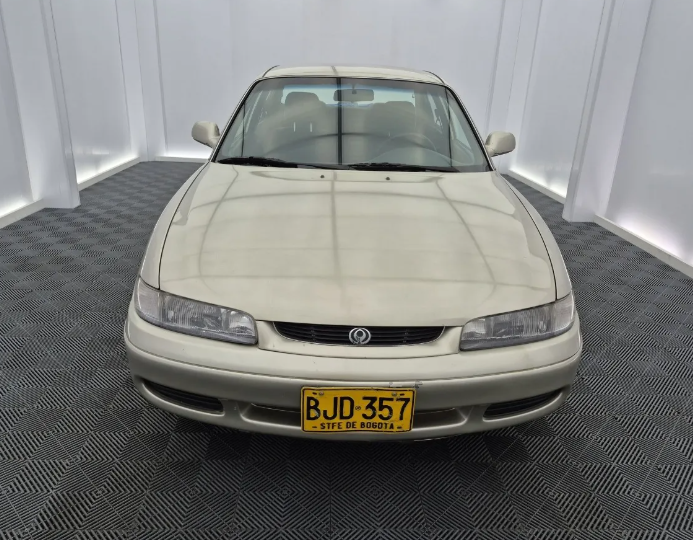placa: (299, 385, 417, 438)
